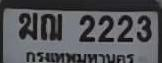2: (116, 14, 132, 41), (97, 14, 113, 41), (78, 14, 94, 41)
3: (136, 14, 151, 41)
A06: (18, 12, 37, 39)
A12: (40, 13, 62, 40)
BKK: (23, 50, 137, 63)
